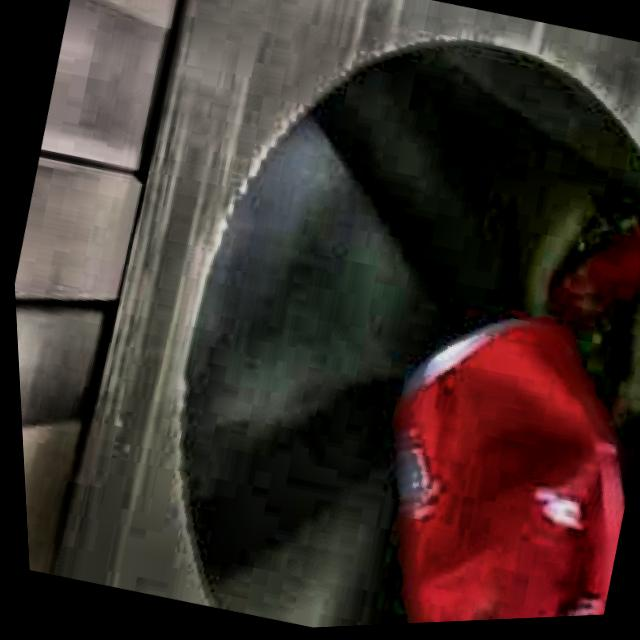metal: (393, 325, 624, 627)
